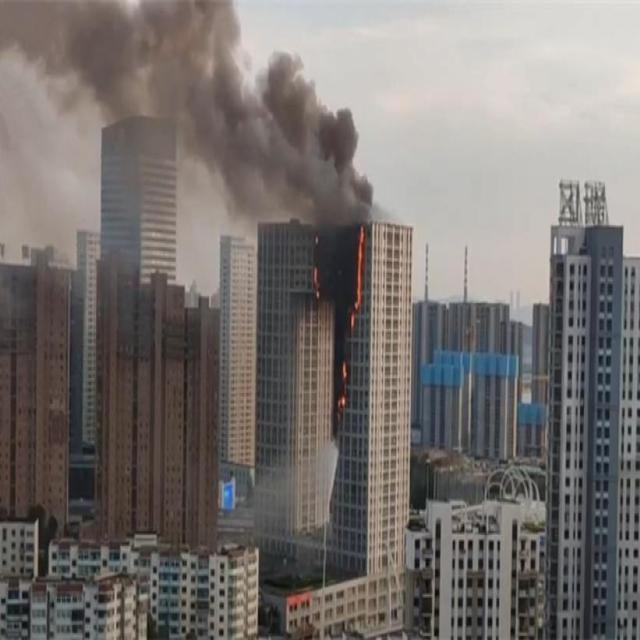Smoke: (2, 0, 371, 220)
